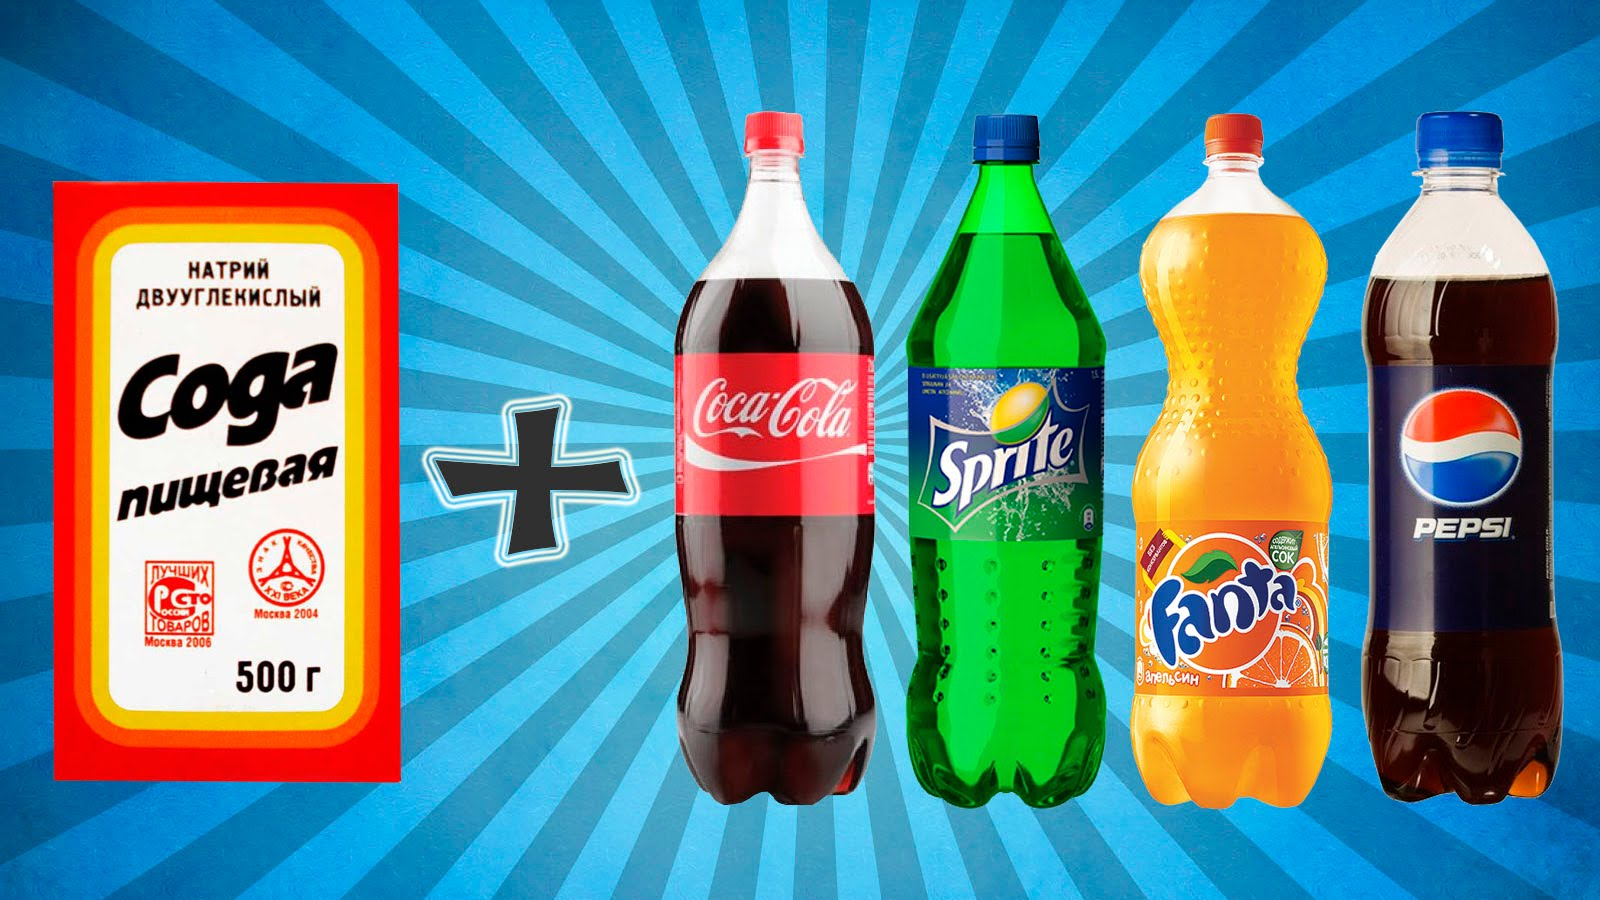fanta: (1153, 119, 1329, 797)
